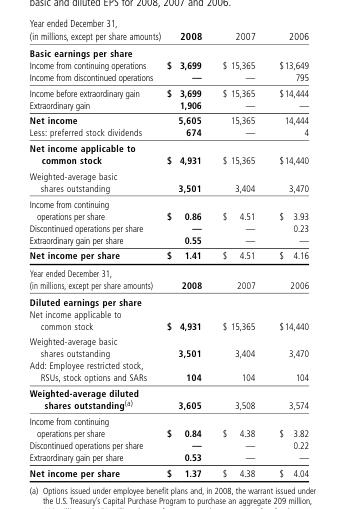table: (28, 29, 308, 478)
table column: (28, 29, 163, 478), (211, 29, 266, 478), (163, 29, 211, 478), (266, 29, 308, 478)
table column header: (28, 29, 308, 44)
table projected row header: (28, 263, 308, 278), (28, 292, 308, 307), (28, 44, 308, 58)
table row: (28, 167, 308, 195), (28, 384, 308, 412), (28, 140, 308, 167), (28, 195, 308, 221), (28, 307, 308, 333), (28, 333, 308, 359), (28, 412, 308, 438), (28, 359, 308, 384), (28, 247, 308, 263), (28, 29, 308, 44), (28, 263, 308, 278), (28, 292, 308, 307), (28, 44, 308, 58), (28, 70, 308, 84), (28, 84, 308, 98), (28, 98, 308, 112), (28, 112, 308, 126), (28, 126, 308, 140), (28, 233, 308, 247), (28, 278, 308, 292), (28, 450, 308, 464), (28, 464, 308, 478), (28, 58, 308, 70), (28, 221, 308, 233), (28, 438, 308, 450)
